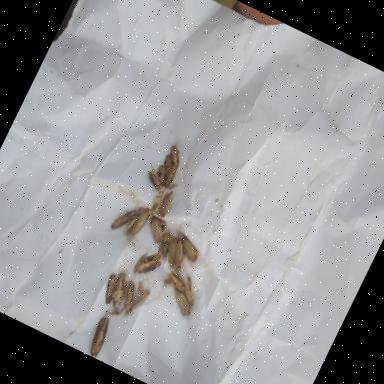pbw: (160, 222, 202, 274), (110, 277, 146, 321), (84, 312, 116, 358), (171, 268, 207, 308), (130, 244, 166, 284), (104, 270, 136, 310), (154, 134, 188, 169), (109, 196, 140, 234), (140, 213, 170, 244), (166, 288, 196, 318), (98, 271, 123, 306), (174, 236, 204, 264), (140, 164, 170, 192), (124, 204, 150, 236), (164, 268, 191, 294), (154, 188, 176, 219), (148, 186, 170, 216), (154, 230, 176, 259), (157, 152, 178, 180), (119, 210, 139, 236), (130, 286, 150, 311), (162, 164, 178, 188), (152, 164, 170, 184), (164, 178, 180, 192)
